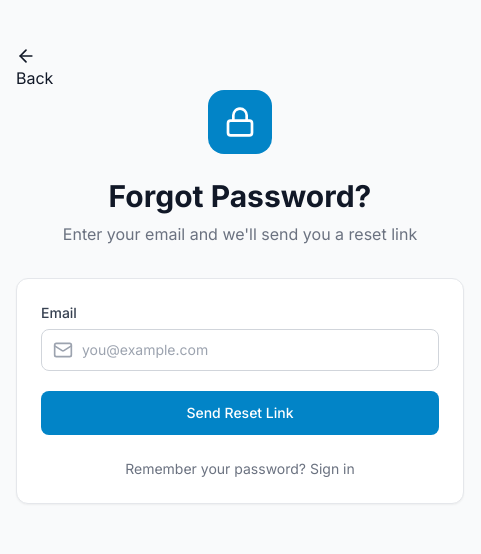
ForgotPasswordPage › shows error message on failure
Type "test@test.com" into the field labelled "Email".
click(240, 350); type("test@test.com")  # box [41, 329, 439, 371]
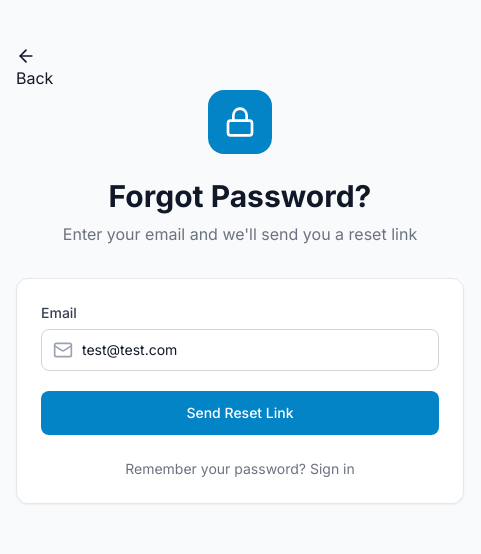
Click the button "Send Reset Link".
click(240, 413)  # box [41, 391, 439, 435]
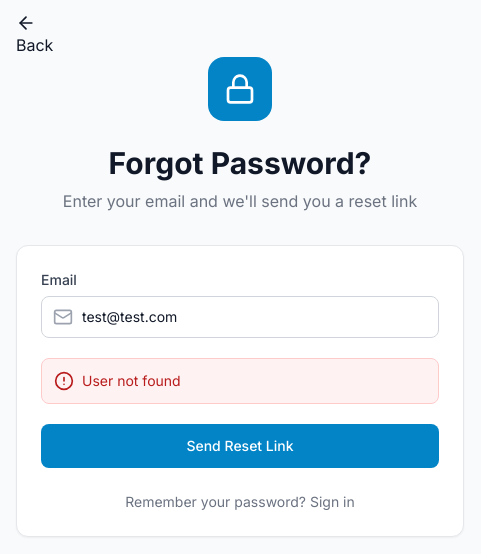
Expected: the text "User not found" is shown, [82, 371, 181, 391]
